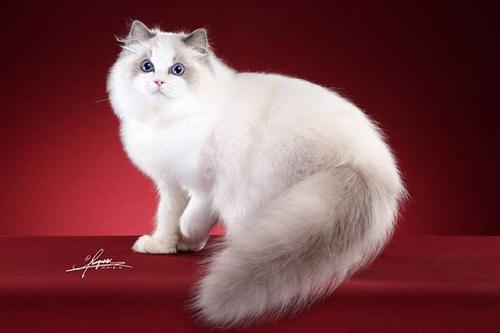cat: (99, 15, 406, 329)
